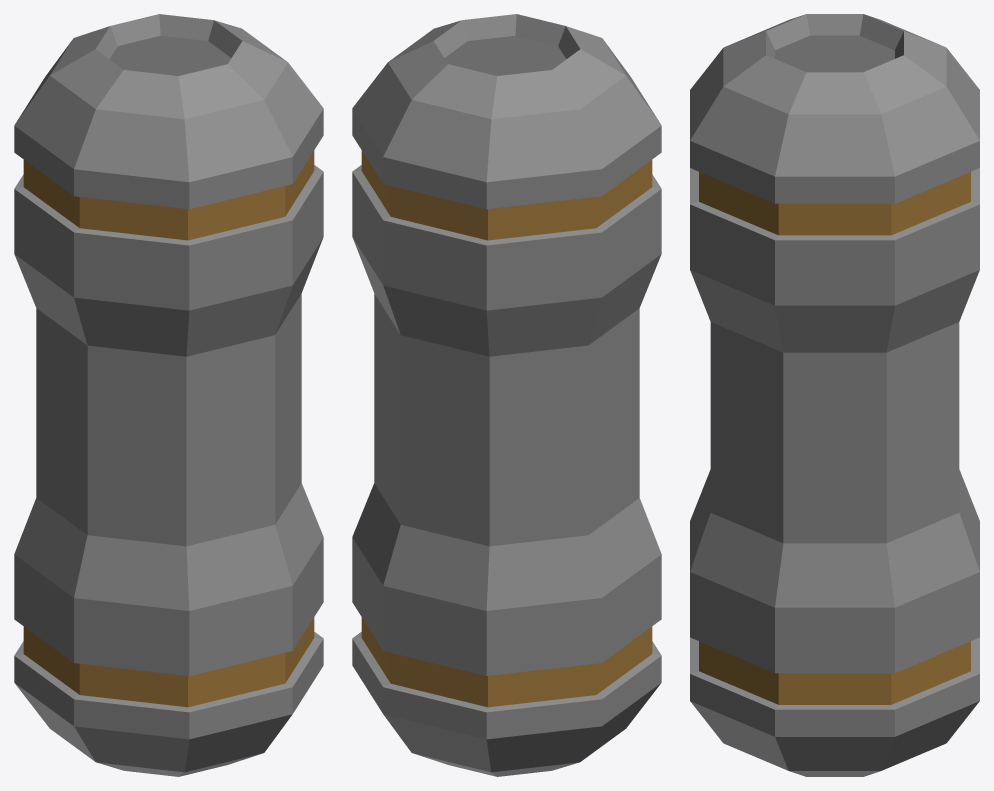
Rendered from vessel.glb.
3 views of the same model, side by side, from view 1: azimuth 30°, elevation 25°; view 2: azimuth 150°, elevation 25°; view 3: azimuth 270°, elevation 25° (orthographic).
Parts seen in each view (by area): view 1: Props_Vessel; view 2: Props_Vessel; view 3: Props_Vessel.
Part boxes in pixels (x1=…): Props_Vessel: x1=14, y1=14, x2=323, y2=776; Props_Vessel: x1=352, y1=14, x2=661, y2=776; Props_Vessel: x1=690, y1=14, x2=979, y2=776.
Size of the model in its own units: 0.2873 by 0.7705 by 0.2873.
